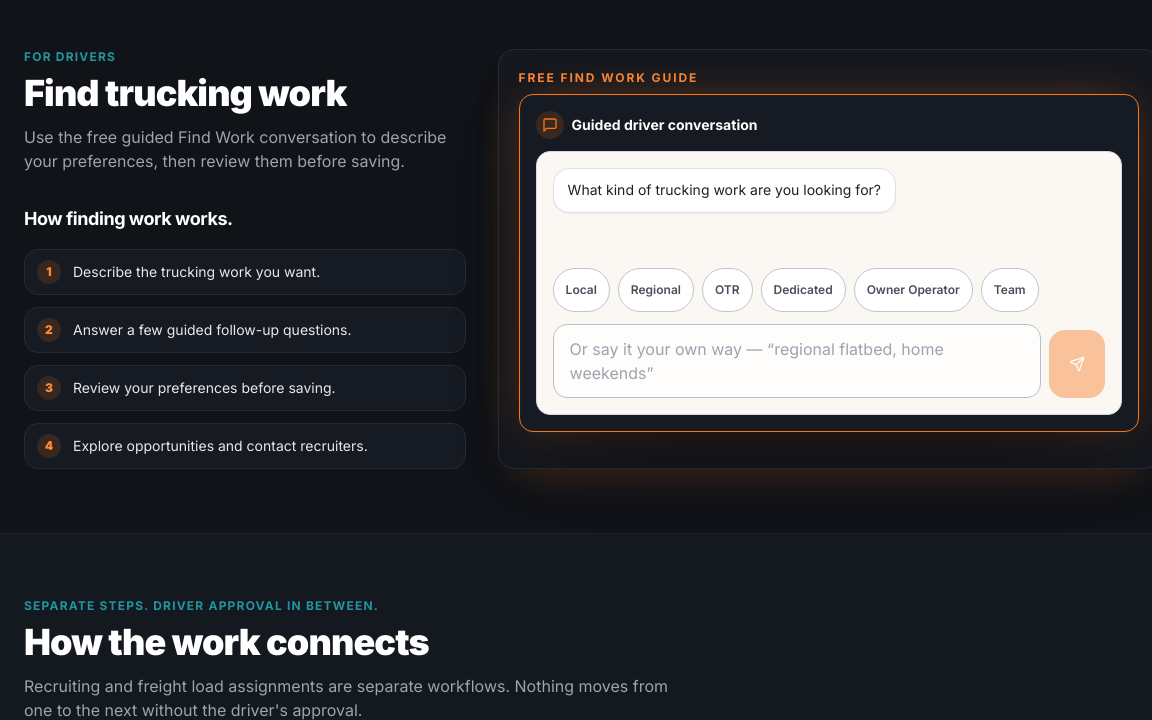
Scenario: Homepage — audience-first front door with guided driver conversation › send stays disabled until the driver types a reply
(page scrolled)
Expected: the button with test id "home-conversation-send" is disabled, [1049,330,1105,398]
Type "Regional flatbed out of Georgia" into the text box with test id "home-conversation-input" at {"x": 797, "y": 361}, box [553,324,1041,398]
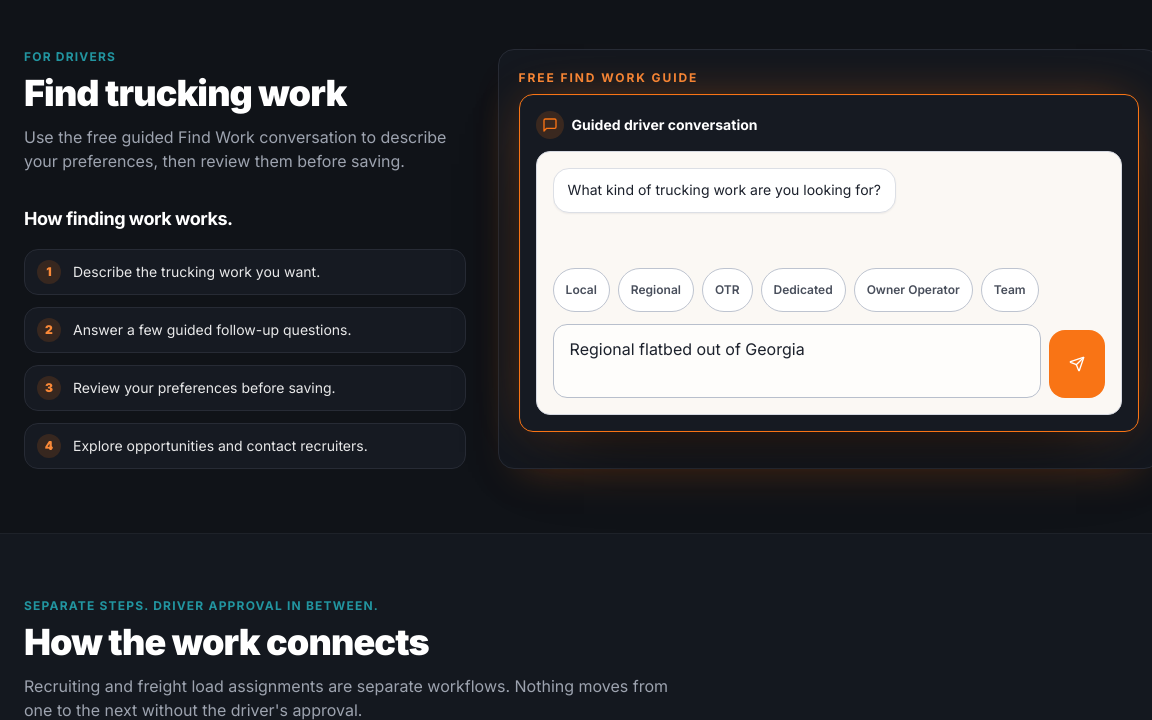
Result: the button with test id "home-conversation-send" is enabled at [1049,330,1105,398]
